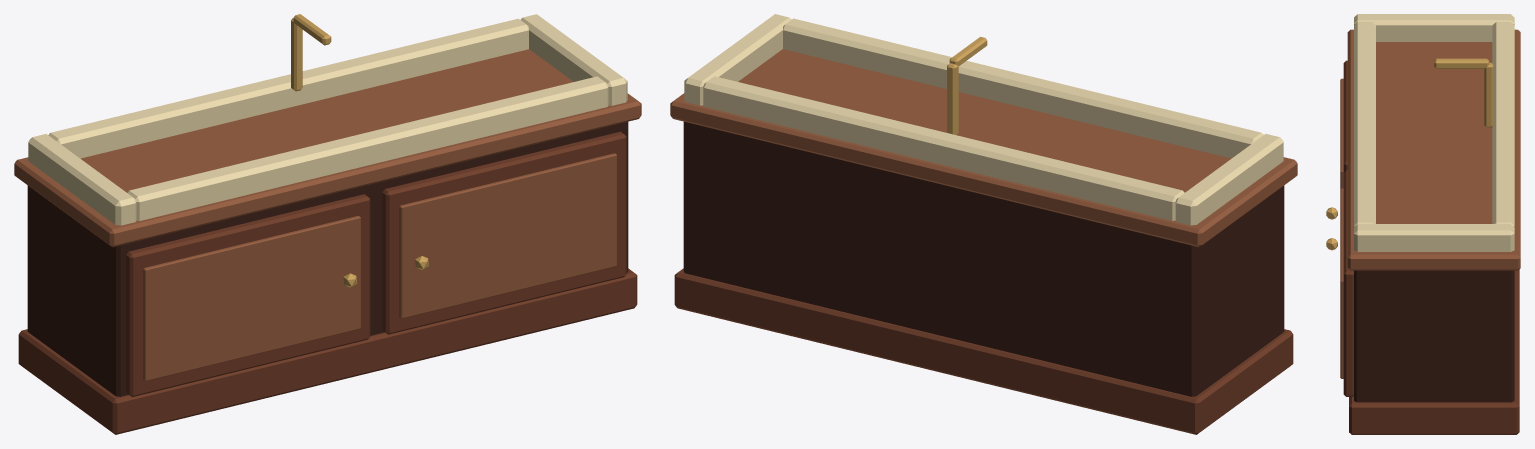
File: sink_04.glb
The picture shows the model from 3 angles, left to right: view 1: azimuth 30°, elevation 25°; view 2: azimuth 150°, elevation 25°; view 3: azimuth 270°, elevation 25°; orthographic projection. The views are drawn at different scales.
Visible parts, largest first — view 1: Base, Base_Top, Base_Plinth, Base_Body, RimY, RimY_001, RimX, RimX_001, TapStem; view 2: Base_Body, Base_Top, Base_Plinth, RimY_001, RimY, RimX, RimX_001, TapStem; view 3: Base_Top, Base_Body, Base_Plinth, RimY_001, RimX_001, RimY, RimX, Base, TapStem, TapNeck.
Part boxes in pixels (x1,y1,x2,y2): Base: (126, 131, 626, 396); Base_Top: (14, 49, 641, 247); Base_Plinth: (18, 268, 637, 434); Base_Body: (27, 121, 628, 396); RimY: (127, 76, 608, 220); RimY_001: (48, 18, 528, 158); RimX: (28, 134, 136, 225); RimX_001: (521, 14, 627, 105); TapStem: (291, 18, 302, 91); Base_Body: (683, 121, 1284, 396); Base_Top: (670, 49, 1297, 247); Base_Plinth: (674, 268, 1293, 434); RimY_001: (703, 76, 1184, 220); RimY: (783, 18, 1263, 158); RimX: (1175, 134, 1283, 225); RimX_001: (684, 14, 791, 105); TapStem: (947, 63, 958, 134); Base_Top: (1347, 29, 1520, 270); Base_Body: (1354, 270, 1514, 402); Base_Plinth: (1349, 269, 1519, 434); RimY_001: (1492, 22, 1514, 227); RimX_001: (1354, 224, 1514, 251); RimY: (1354, 22, 1375, 226); RimX: (1354, 14, 1514, 41); Base: (1326, 60, 1353, 396); TapStem: (1484, 62, 1493, 127); TapNeck: (1434, 58, 1488, 68).
Bounding box in the file's own units: 2.18 × 1.18 × 0.7868.
